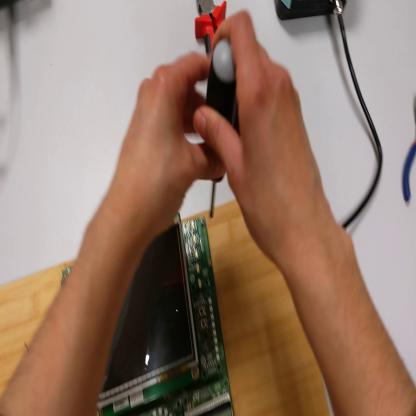hand: (193, 10, 327, 263), (115, 51, 223, 241)
low voltage board: (61, 216, 235, 416)
pliers: (193, 1, 228, 50), (402, 96, 416, 205)
screwdriver-: (203, 33, 240, 225)
welder station: (274, 1, 347, 22)
working area: (1, 200, 330, 416)
